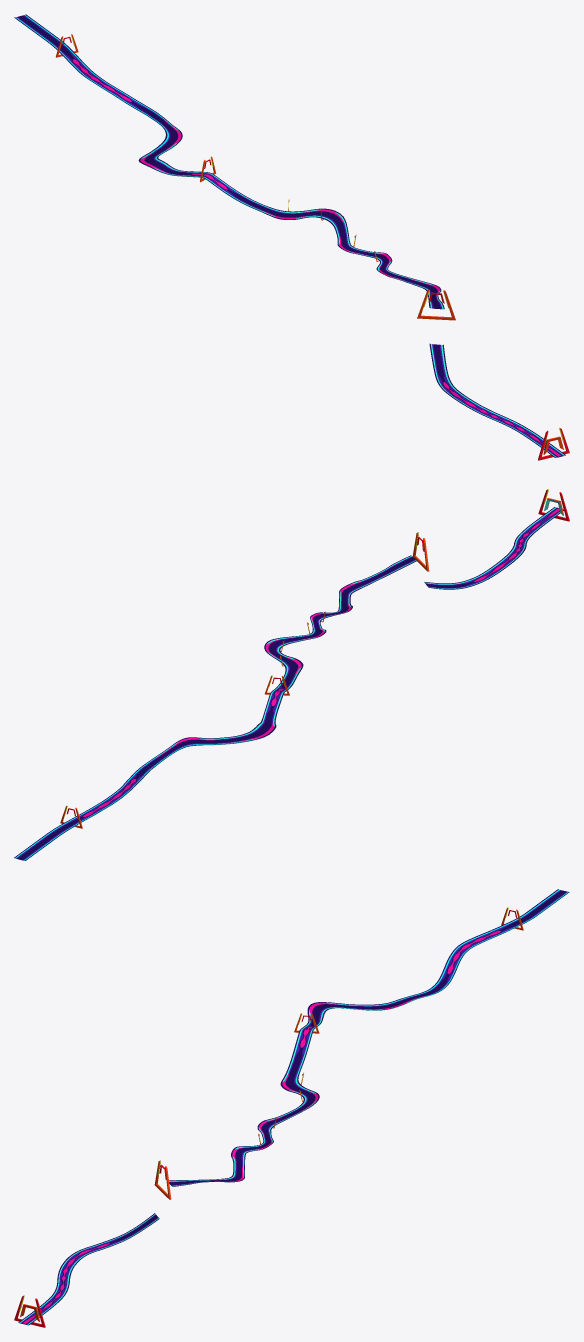
File: Track_Frost_VX (1).FBX
3 views of the same model, one above another, from view 1: azimuth 30°, elevation 25°; view 2: azimuth 150°, elevation 25°; view 3: azimuth 330°, elevation 25° (orthographic).
Visible parts, largest first — view 1: sadsadasd; view 2: sadsadasd; view 3: sadsadasd.
Boxes of the visible parts, x1=… form: sadsadasd: x1=14, y1=14, x2=569, y2=460; sadsadasd: x1=14, y1=489, x2=569, y2=860; sadsadasd: x1=14, y1=889, x2=569, y2=1327.
Size of the model in its own units: 14247 by 9226 by 118061.
